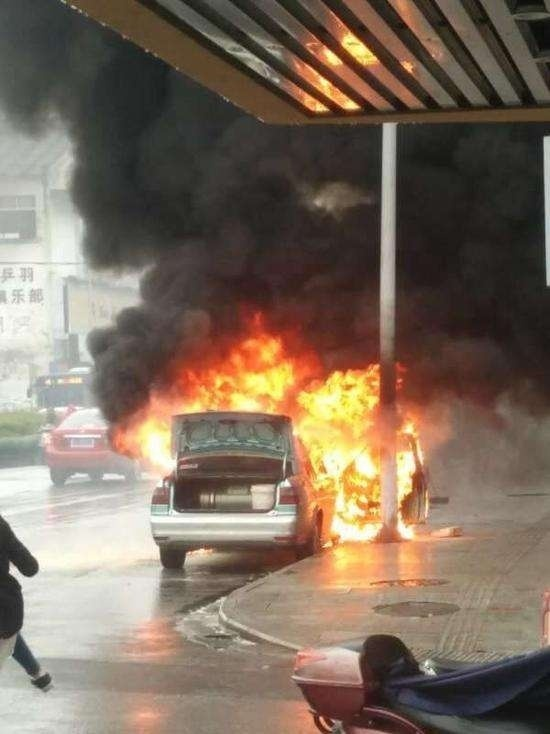fire: (125, 321, 439, 553)
